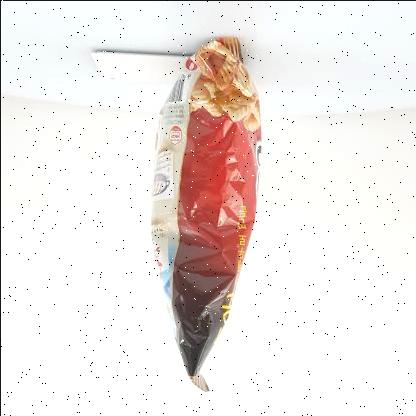Others: (124, 24, 286, 404)
